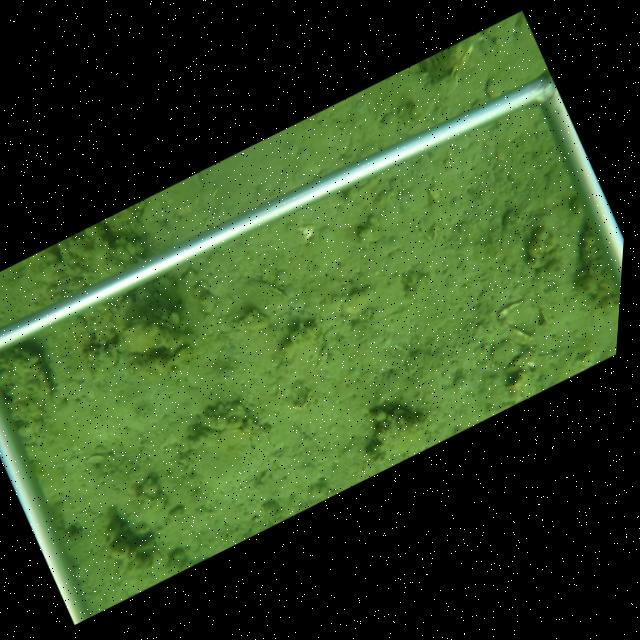Oyster-Closed: (116, 318, 193, 358)
Oyster-Indeterminate: (0, 346, 55, 427), (240, 280, 288, 317)
